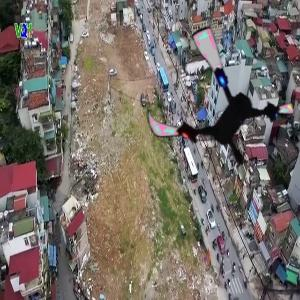drone: (142, 23, 299, 180)
